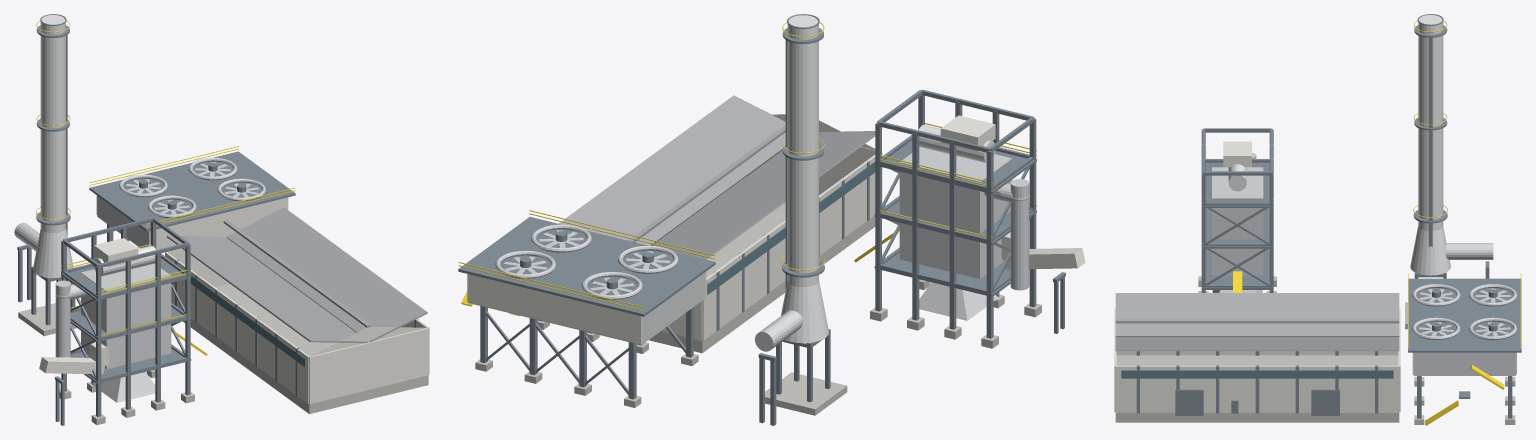
File: sts-site-v2-anchors-test.glb
3 views of the same model, side by side, from view 1: azimuth 30°, elevation 25°; view 2: azimuth 150°, elevation 25°; view 3: azimuth 270°, elevation 25° (orthographic). The views are drawn at different scales.
Parts seen in each view (by area): view 1: TG_Roof_S, TG_Roof_N, TG_Wall_W, ACC_Deck, STACK_Barrel, BOIL_Core, TG_Wall_N, TG_Base, ACC_Clad_S, STACK_BaseCone, TG_Gables, BOIL_Duct_Riser (+23 smaller); view 2: TG_Roof_S, ACC_Deck, BOIL_Core, STACK_Barrel, TG_Roof_N, TG_Wall_N, ACC_Clad_N, TG_Base, BOIL_Duct_Riser, ACC_Body, STACK_BaseCone, STACK_Foundation (+27 smaller); view 3: TG_Roof_N, TG_Wall_S, TG_Base, ACC_Deck, STACK_Barrel, TG_Roof_S, BOIL_Core, TG_Windows_S, ACC_Body, STACK_BaseCone, TG_Ridge, TG_Wall_N (+15 smaller).
Part boxes in pixels (x1,y1,x2,y2): TG_Roof_S: (226, 207, 427, 342); TG_Roof_N: (167, 235, 367, 343); TG_Wall_W: (309, 328, 428, 403); ACC_Deck: (89, 151, 295, 231); STACK_Barrel: (40, 15, 65, 233); BOIL_Core: (81, 263, 171, 369); TG_Wall_N: (165, 252, 309, 403); TG_Base: (183, 274, 428, 413); ACC_Clad_S: (149, 197, 288, 249); STACK_BaseCone: (33, 228, 73, 277); TG_Gables: (169, 222, 427, 356); BOIL_Duct_Riser: (55, 280, 70, 357); TG_Roof_S: (559, 95, 785, 245); ACC_Deck: (458, 217, 715, 316); BOIL_Core: (899, 147, 1012, 278); STACK_Barrel: (787, 15, 818, 287); TG_Roof_N: (652, 131, 875, 259); TG_Wall_N: (702, 152, 882, 340); ACC_Clad_N: (467, 274, 641, 343); TG_Base: (648, 177, 875, 353); BOIL_Duct_Riser: (1010, 179, 1029, 290); ACC_Body: (468, 272, 705, 345); STACK_BaseCone: (781, 281, 828, 343); STACK_Foundation: (765, 372, 847, 415); TG_Roof_N: (1115, 293, 1399, 336); TG_Wall_S: (1115, 365, 1399, 412); TG_Base: (1115, 355, 1399, 422); ACC_Deck: (1408, 278, 1521, 352); STACK_Barrel: (1418, 15, 1443, 230); TG_Roof_S: (1115, 336, 1399, 351); BOIL_Core: (1212, 167, 1263, 275); TG_Windows_S: (1121, 370, 1393, 378); ACC_Body: (1413, 352, 1515, 375); STACK_BaseCone: (1410, 226, 1450, 275); TG_Ridge: (1115, 319, 1399, 323); TG_Wall_N: (1116, 351, 1398, 355).
Size of what is drawn, in the model's own units: 71.84 by 58.12 by 71.7.
